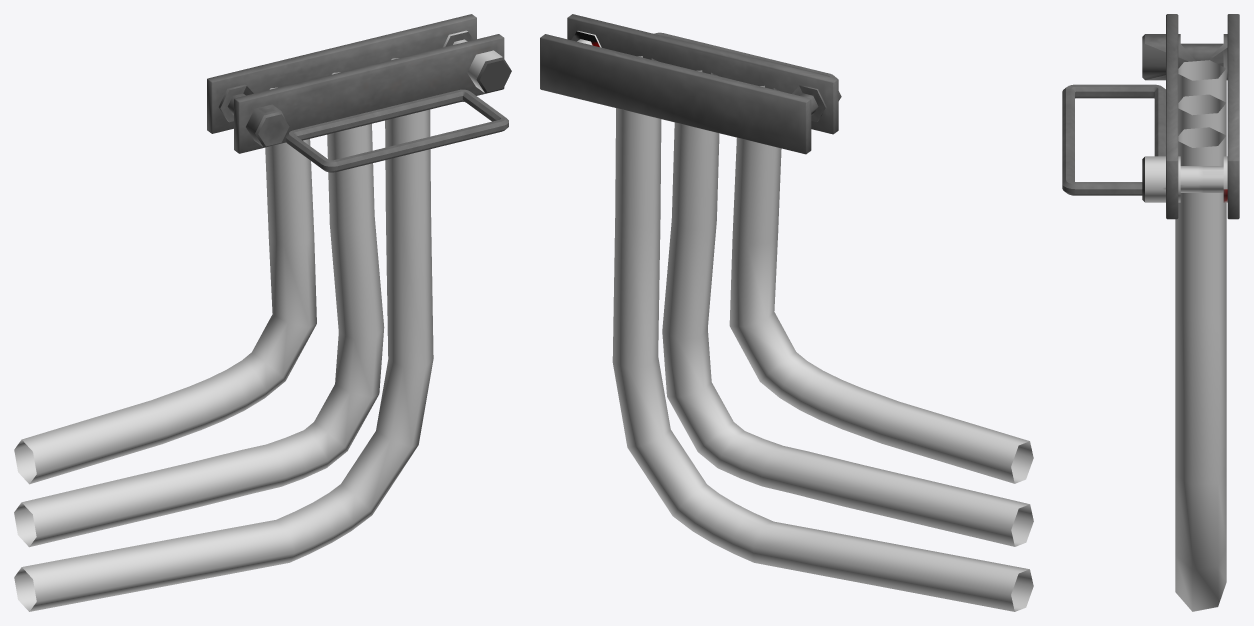
File: SFM_ElectricCable_Curve.FBX
3 views of the same model, side by side, from view 1: azimuth 30°, elevation 25°; view 2: azimuth 150°, elevation 25°; view 3: azimuth 270°, elevation 25° (orthographic). The views are drawn at different scales.
Parts seen in each view (by area): view 1: SFM_ElectricCable_Curve_LOD0; view 2: SFM_ElectricCable_Curve_LOD0; view 3: SFM_ElectricCable_Curve_LOD0.
Boxes of the visible parts, left/top/right/bottom form: SFM_ElectricCable_Curve_LOD0: left=14, top=14, right=511, bottom=611; SFM_ElectricCable_Curve_LOD0: left=540, top=14, right=1033, bottom=611; SFM_ElectricCable_Curve_LOD0: left=1062, top=14, right=1239, bottom=611.
Size of what is drawn, in the model's own units: 24.21 by 24.16 by 7.08.
